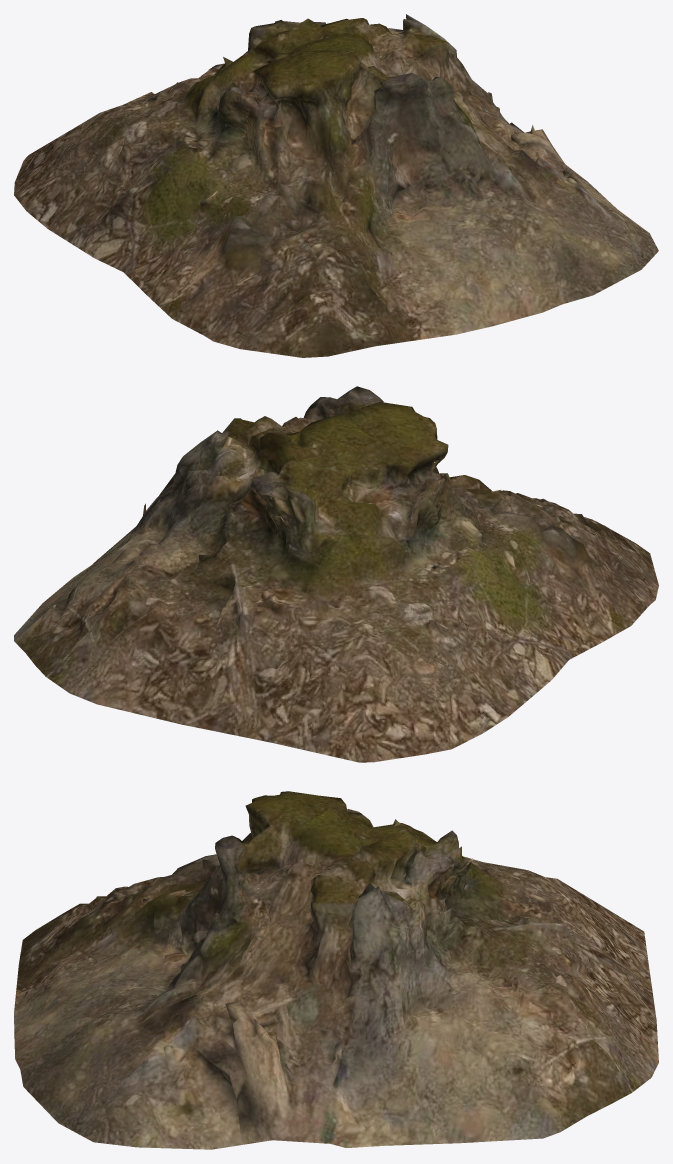
File: tree_stump_01.glb
The picture shows the model from 3 angles, top to bottom: view 1: azimuth 30°, elevation 25°; view 2: azimuth 150°, elevation 25°; view 3: azimuth 270°, elevation 25°; orthographic projection. The views are drawn at different scales.
Parts seen in each view (by area): view 1: tree_stump_01; view 2: tree_stump_01; view 3: tree_stump_01.
Part boxes in pixels (box(x1,y1,x2,y2)): tree_stump_01: box(14, 14, 658, 357); tree_stump_01: box(14, 386, 658, 762); tree_stump_01: box(14, 791, 658, 1149).
Bounding box in the file's own units: 1.43 × 0.57 × 1.59.
Materials: 1 (1 with a texture image).
